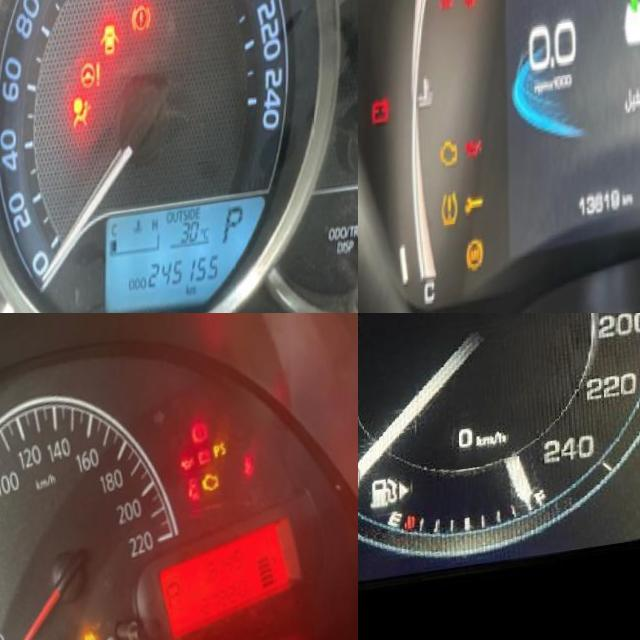Doors: (184, 487, 203, 521)
Electronic Power Steering: (77, 62, 102, 104)
High Engine Coolant Temperature: (436, 0, 455, 18)
